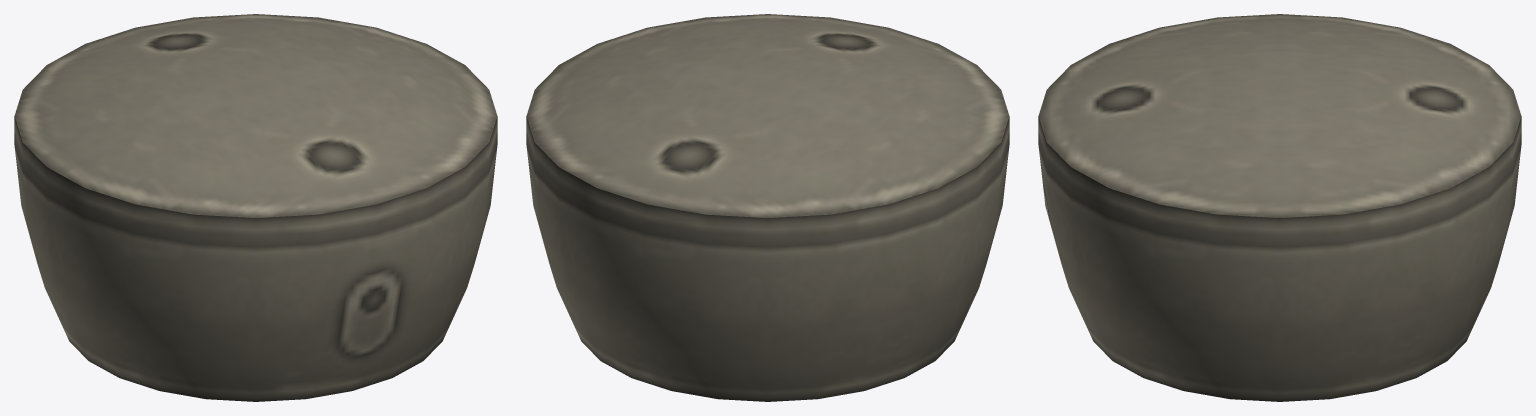
Rendered from eridani_engine_s0_1.obj.
3 renders of one model, left to right at view 1: azimuth 30°, elevation 25°; view 2: azimuth 150°, elevation 25°; view 3: azimuth 270°, elevation 25°, orthographic.
Parts seen in each view (by area): view 1: mesh1; view 2: mesh1; view 3: mesh1.
Part boxes in pixels (box(x1,y1,x2,y2)): mesh1: box(14, 14, 497, 401); mesh1: box(526, 14, 1009, 401); mesh1: box(1038, 14, 1521, 401).
Bounding box in the file's own units: 0.375 × 0.2 × 0.375.
1 material, 1 textured.
